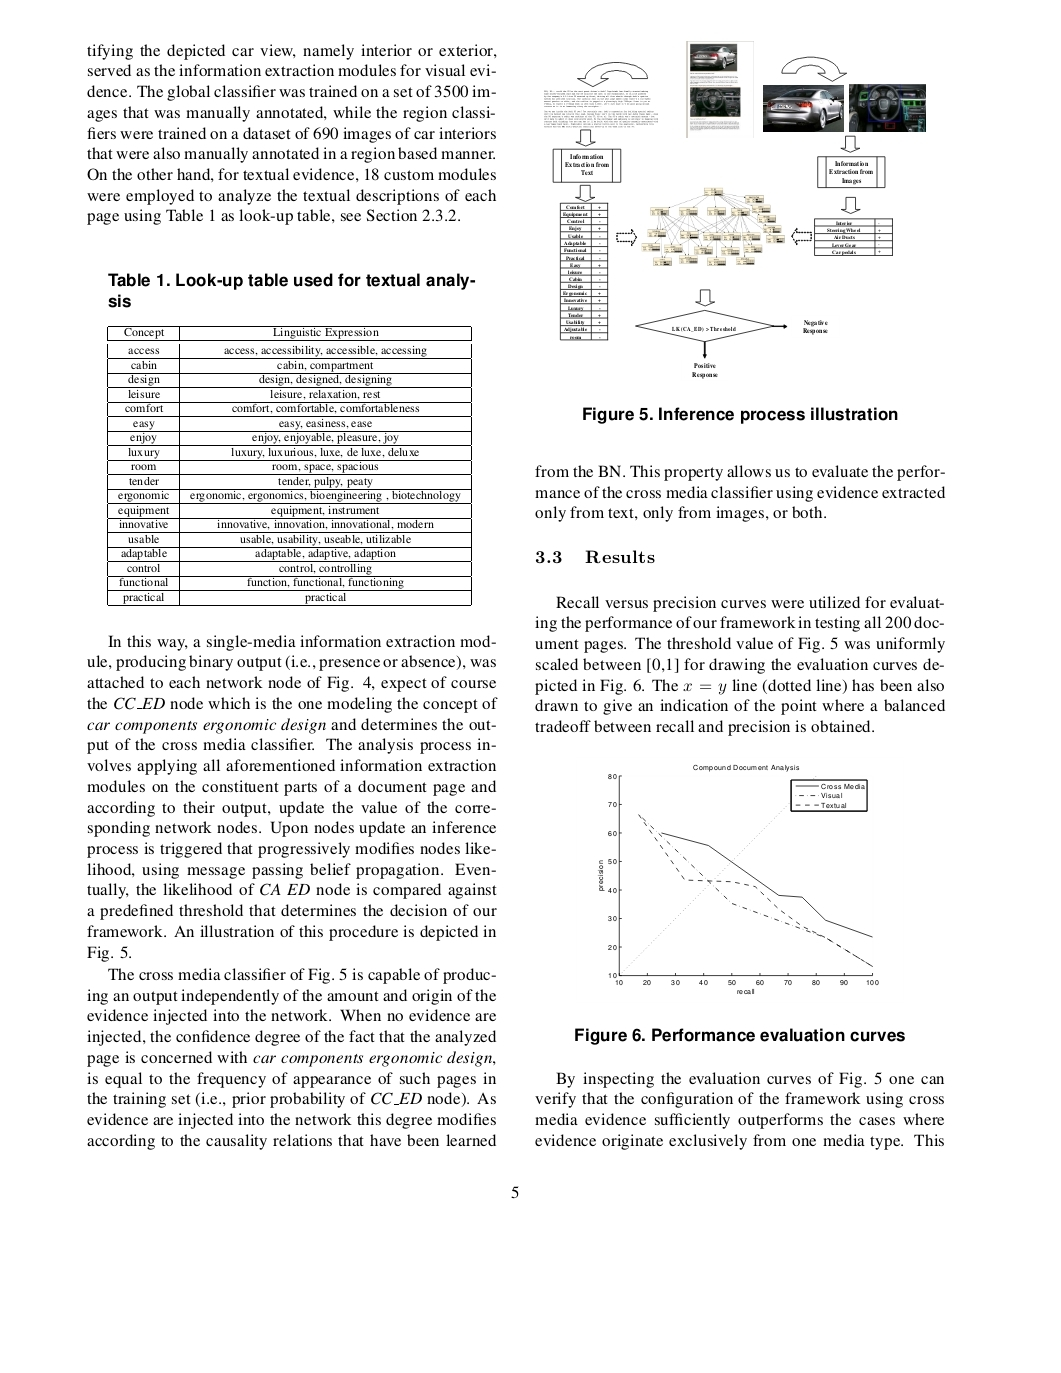Table: (107, 327, 471, 605)
figure: (544, 41, 925, 378), (597, 765, 878, 994)
